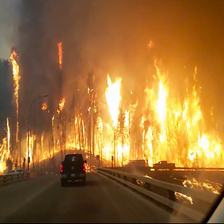fire: (90, 65, 222, 171), (1, 37, 66, 172), (67, 94, 89, 151)
